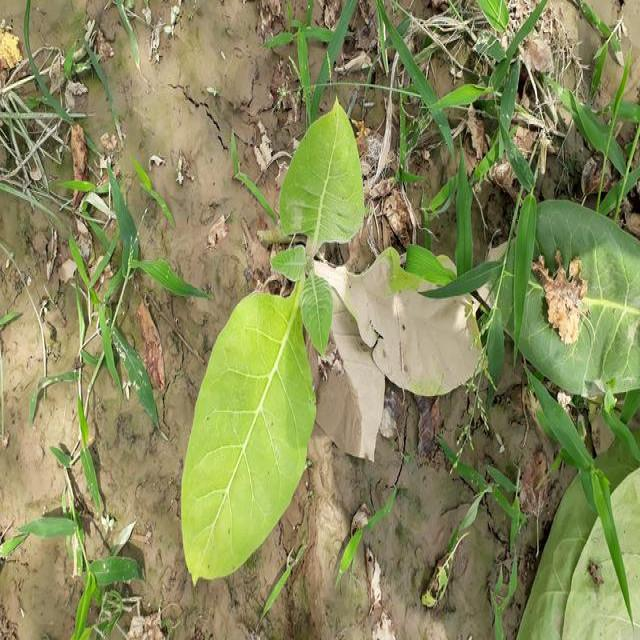crop: (177, 98, 480, 566), (505, 205, 639, 640)
